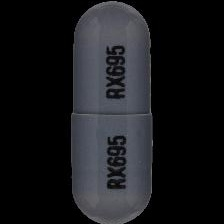54868-5040: (0, 0, 224, 224)
